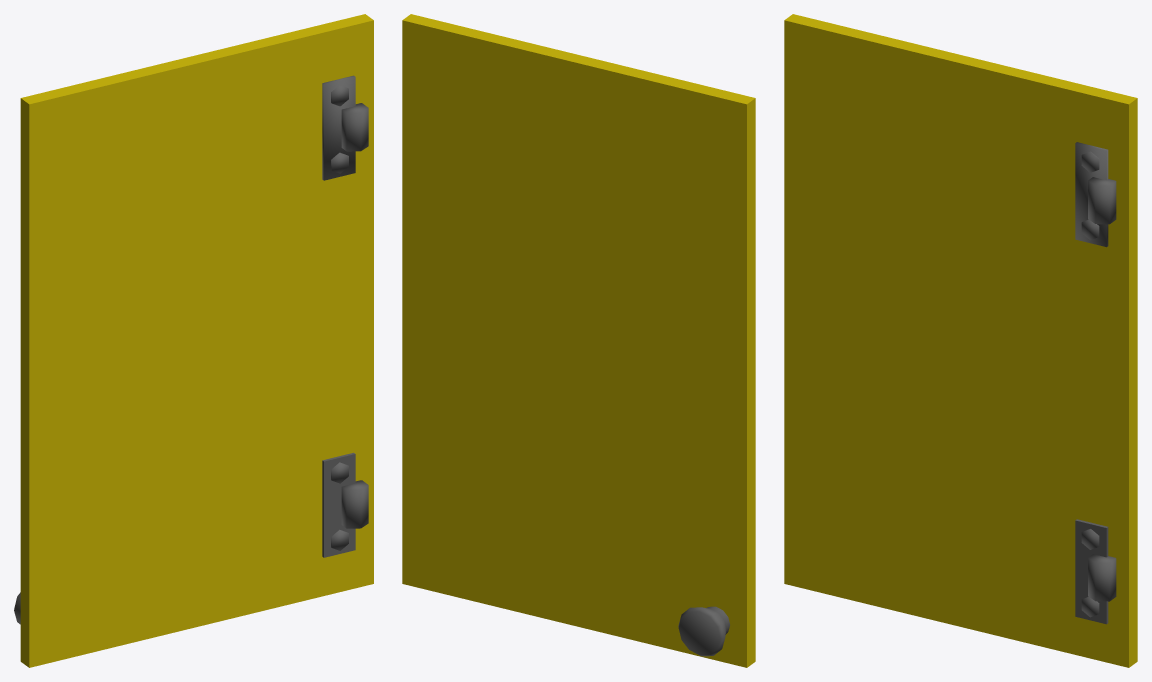
Rendered from SNWP_MOD_BUN_Kitchen_cabinet_door_01.fbx.
3 renders of one model, left to right at view 1: azimuth 30°, elevation 25°; view 2: azimuth 150°, elevation 25°; view 3: azimuth 330°, elevation 25°, orthographic.
Parts seen in each view (by area): view 1: SNWP_MOD_Kitchen_cabinet_door_01; view 2: SNWP_MOD_Kitchen_cabinet_door_01; view 3: SNWP_MOD_Kitchen_cabinet_door_01.
Part boxes in pixels (x1=…): SNWP_MOD_Kitchen_cabinet_door_01: x1=14, y1=14, x2=373, y2=667; SNWP_MOD_Kitchen_cabinet_door_01: x1=402, y1=14, x2=755, y2=667; SNWP_MOD_Kitchen_cabinet_door_01: x1=784, y1=14, x2=1137, y2=667.
Bounding box in the file's own units: 0.3204 × 0.5006 × 0.0568.
